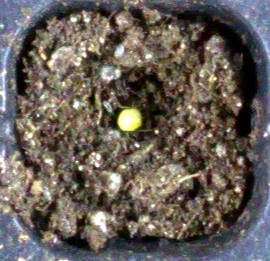pepper seed: (44, 41, 187, 174)
